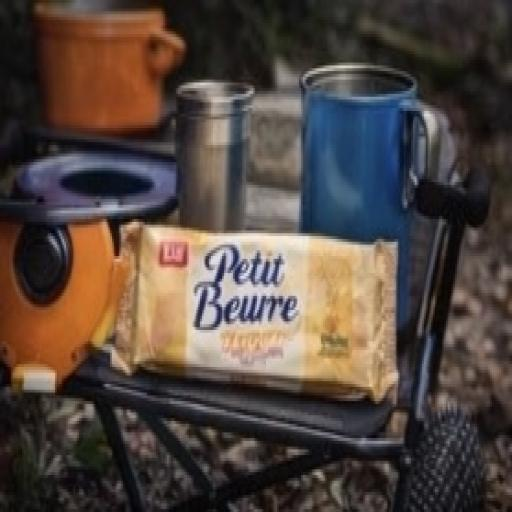petit-beurre: (81, 160, 451, 492)
